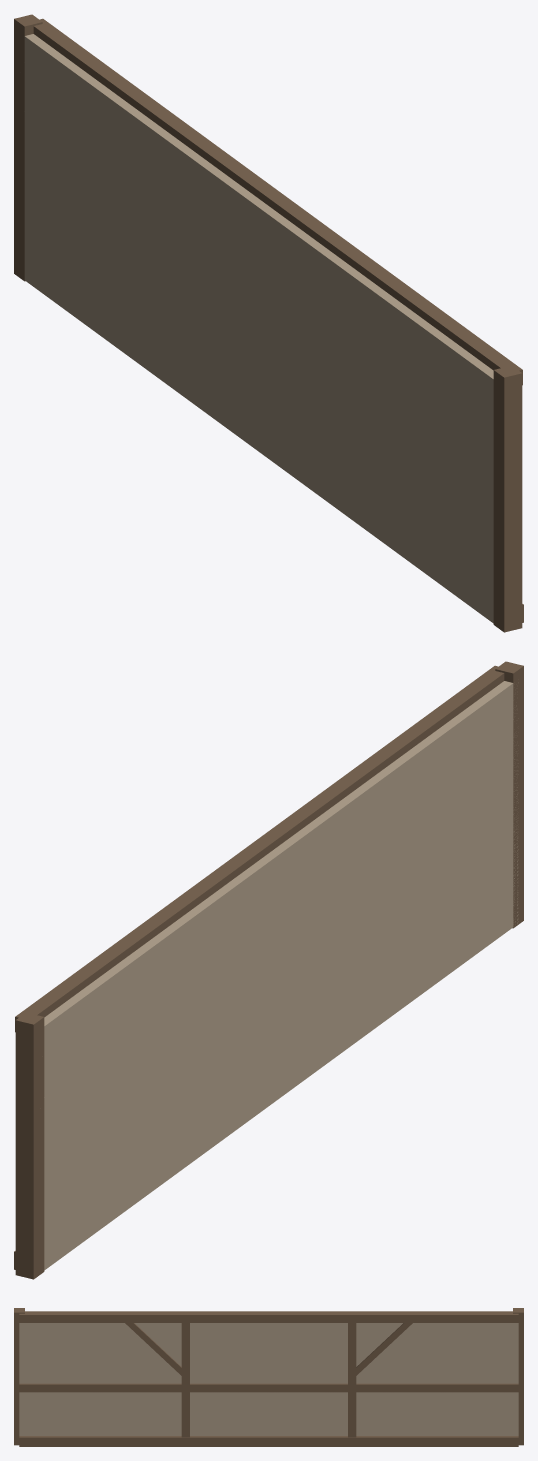
The model's file is mod02_A_three_plain.glb.
3 renders of one model, top to bottom at view 1: azimuth 30°, elevation 25°; view 2: azimuth 150°, elevation 25°; view 3: azimuth 270°, elevation 25°, orthographic. The views are drawn at different scales.
Parts seen in each view (by area): view 1: MOD01_Bay_2_Infill, MOD01_Bay_3_Infill, MOD01_Bay_1_Infill, 08A_SideWallPlate.006, 08A_CornerPost.012, 08A_CornerPost.013; view 2: MOD01_Bay_2_Infill, MOD01_Bay_1_Infill, MOD01_Bay_3_Infill, 08A_SideWallPlate.006, 08A_CornerPost.013, 08A_CornerPost.012; view 3: MOD01_Bay_1_Infill, MOD01_Bay_3_Infill, MOD01_Bay_2_Infill, 08A_SideWallPlate.006, ART01_SideSill, ART01_MidRail, ART01_IntermediatePost_1, ART01_IntermediatePost_2, 08A_CornerPost.012, 08A_CornerPost.013, ART01_KneeBrace_1, ART01_KneeBrace_2.
Boxes of the visible parts, x1=… form: MOD01_Bay_2_Infill: x1=179, y1=147, x2=347, y2=509; MOD01_Bay_3_Infill: x1=24, y1=34, x2=187, y2=392; MOD01_Bay_1_Infill: x1=339, y1=264, x2=493, y2=623; 08A_SideWallPlate.006: x1=33, y1=18, x2=522, y2=385; 08A_CornerPost.012: x1=493, y1=365, x2=522, y2=632; 08A_CornerPost.013: x1=14, y1=14, x2=42, y2=281; MOD01_Bay_2_Infill: x1=190, y1=794, x2=358, y2=1156; MOD01_Bay_1_Infill: x1=350, y1=681, x2=518, y2=1039; MOD01_Bay_3_Infill: x1=44, y1=911, x2=198, y2=1270; 08A_SideWallPlate.006: x1=15, y1=665, x2=504, y2=1032; 08A_CornerPost.013: x1=15, y1=1012, x2=44, y2=1279; 08A_CornerPost.012: x1=495, y1=661, x2=523, y2=928; MOD01_Bay_1_Infill: x1=19, y1=1323, x2=181, y2=1435; MOD01_Bay_3_Infill: x1=356, y1=1323, x2=518, y2=1435; MOD01_Bay_2_Infill: x1=190, y1=1323, x2=347, y2=1435; 08A_SideWallPlate.006: x1=19, y1=1311, x2=518, y2=1322; ART01_SideSill: x1=19, y1=1436, x2=518, y2=1446; ART01_MidRail: x1=19, y1=1383, x2=518, y2=1392; ART01_IntermediatePost_1: x1=181, y1=1323, x2=189, y2=1437; ART01_IntermediatePost_2: x1=348, y1=1323, x2=356, y2=1437; 08A_CornerPost.012: x1=14, y1=1308, x2=24, y2=1445; 08A_CornerPost.013: x1=513, y1=1308, x2=523, y2=1445; ART01_KneeBrace_1: x1=125, y1=1323, x2=181, y2=1375; ART01_KneeBrace_2: x1=356, y1=1323, x2=412, y2=1375.
Size of the model in its own units: 0.22 by 2.14 by 7.46.
